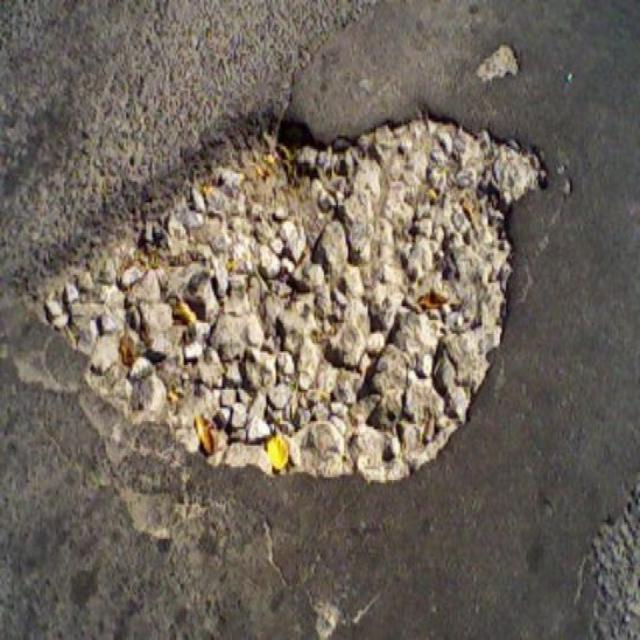Pothole: (12, 100, 557, 480)
